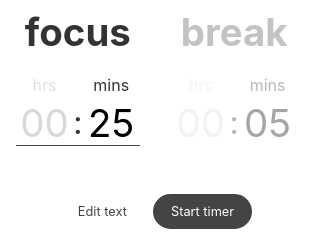
Task durations form step › should hide the start button if either duration is empty
This screenshot has width=320, height=246.
Clear the number field labelled "mins" below "focus" at x=111, y=123, box left=82, top=100, right=140, bottom=146
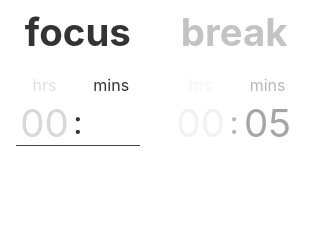
Expected: the button "Start timer" is gone
